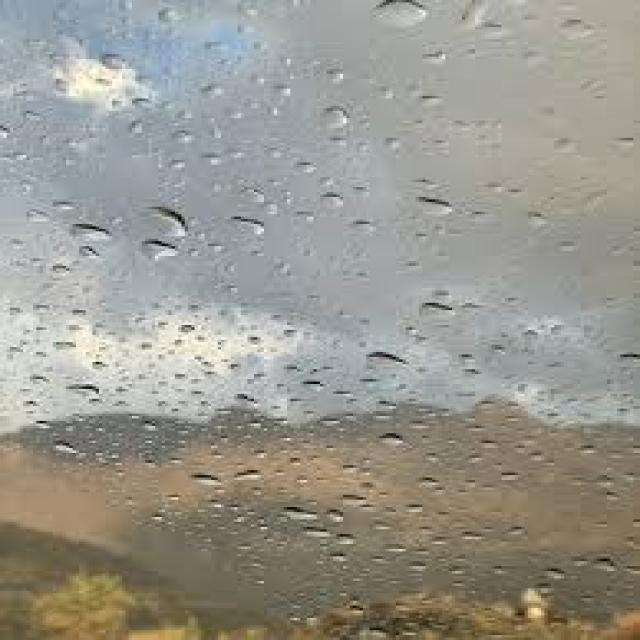raindrop: (410, 290, 486, 340), (299, 100, 361, 146), (412, 187, 476, 229), (372, 0, 439, 40), (266, 498, 332, 538), (180, 462, 234, 510), (140, 197, 194, 243), (213, 208, 274, 246), (122, 233, 188, 268), (367, 426, 422, 466), (350, 341, 410, 377), (64, 215, 116, 254)
